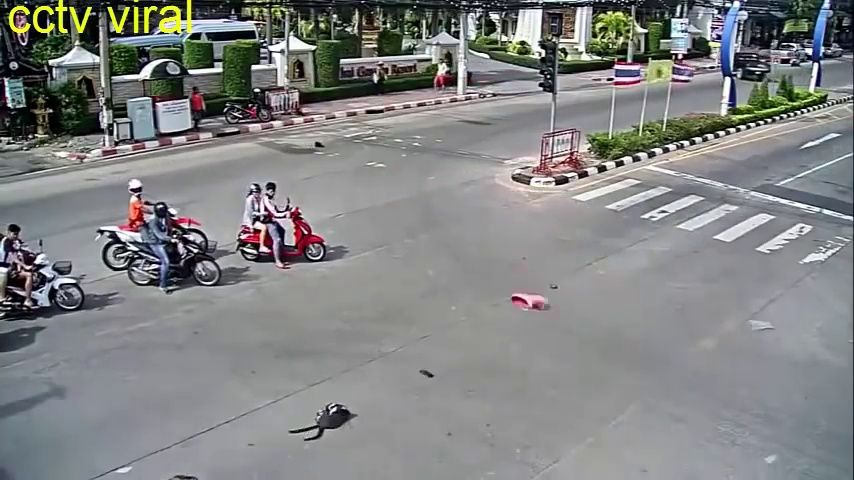motorbike: (100, 179, 211, 273), (127, 198, 223, 288), (234, 179, 325, 262), (1, 240, 83, 312)
